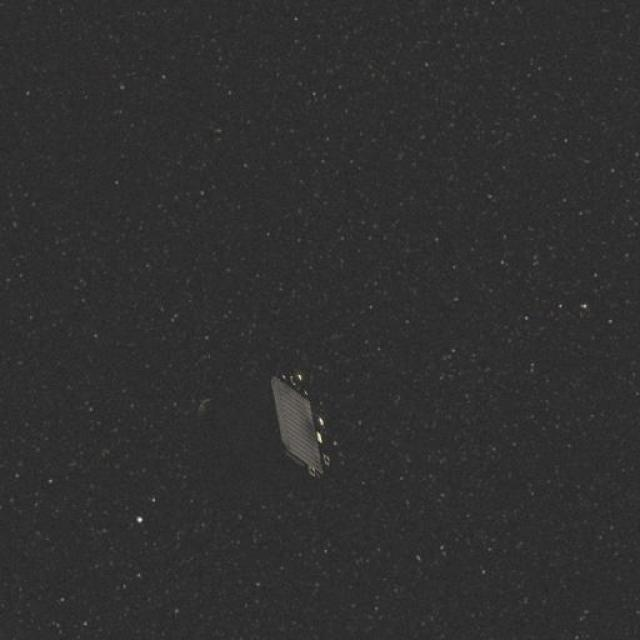proba_3_ocs: (256, 348, 366, 506)
